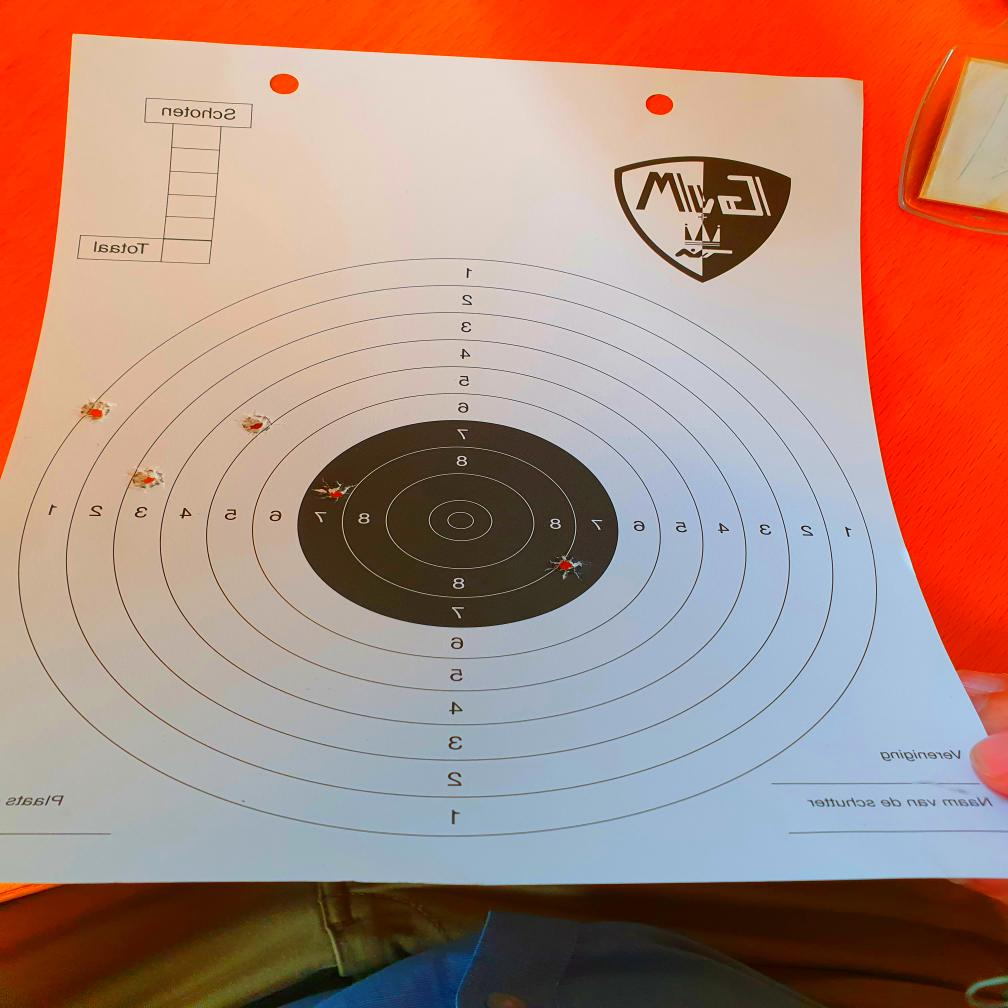1: (72, 395, 116, 424)
3: (128, 462, 169, 491)
5: (235, 410, 278, 439)
7: (310, 475, 356, 505)
8: (541, 552, 590, 580)
Target: (16, 256, 878, 836)
black_contour: (297, 418, 619, 628)
